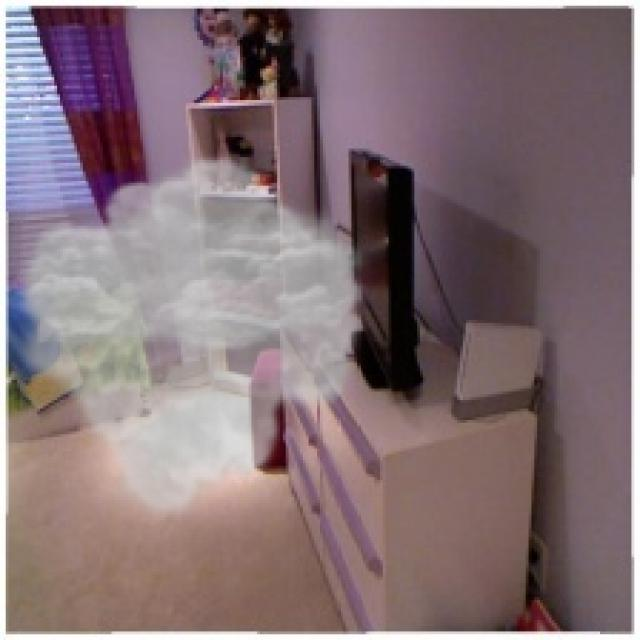smoke: (9, 151, 374, 523)
